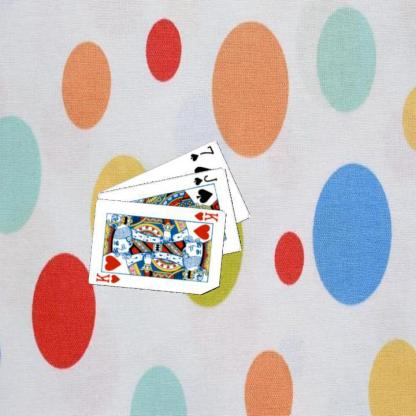7S: (188, 143, 215, 162)
JS: (191, 172, 218, 186)
KH: (192, 209, 219, 223), (94, 270, 121, 284)
